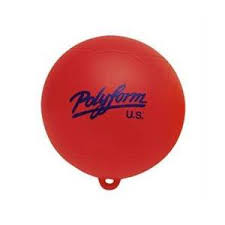buoy: (41, 35, 185, 177)
